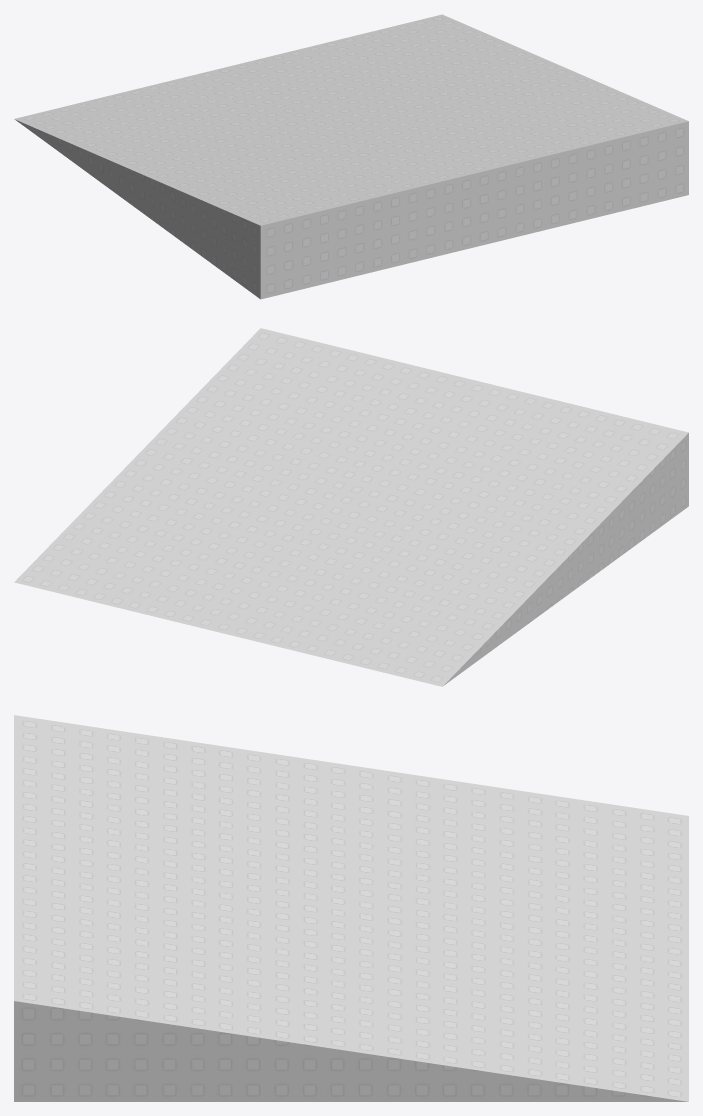
File: anquanqv.FBX
3 views of the same model, one above another, from view 1: azimuth 30°, elevation 25°; view 2: azimuth 150°, elevation 25°; view 3: azimuth 270°, elevation 25° (orthographic). The views are drawn at different scales.
Visible parts, largest first — view 1: anquanqv; view 2: anquanqv; view 3: anquanqv.
Boxes of the visible parts, bbox=[...] form: anquanqv: bbox=[14, 14, 688, 299]; anquanqv: bbox=[14, 328, 688, 686]; anquanqv: bbox=[14, 715, 688, 1101].
Size of the model in its own units: 802 by 132 by 800.
